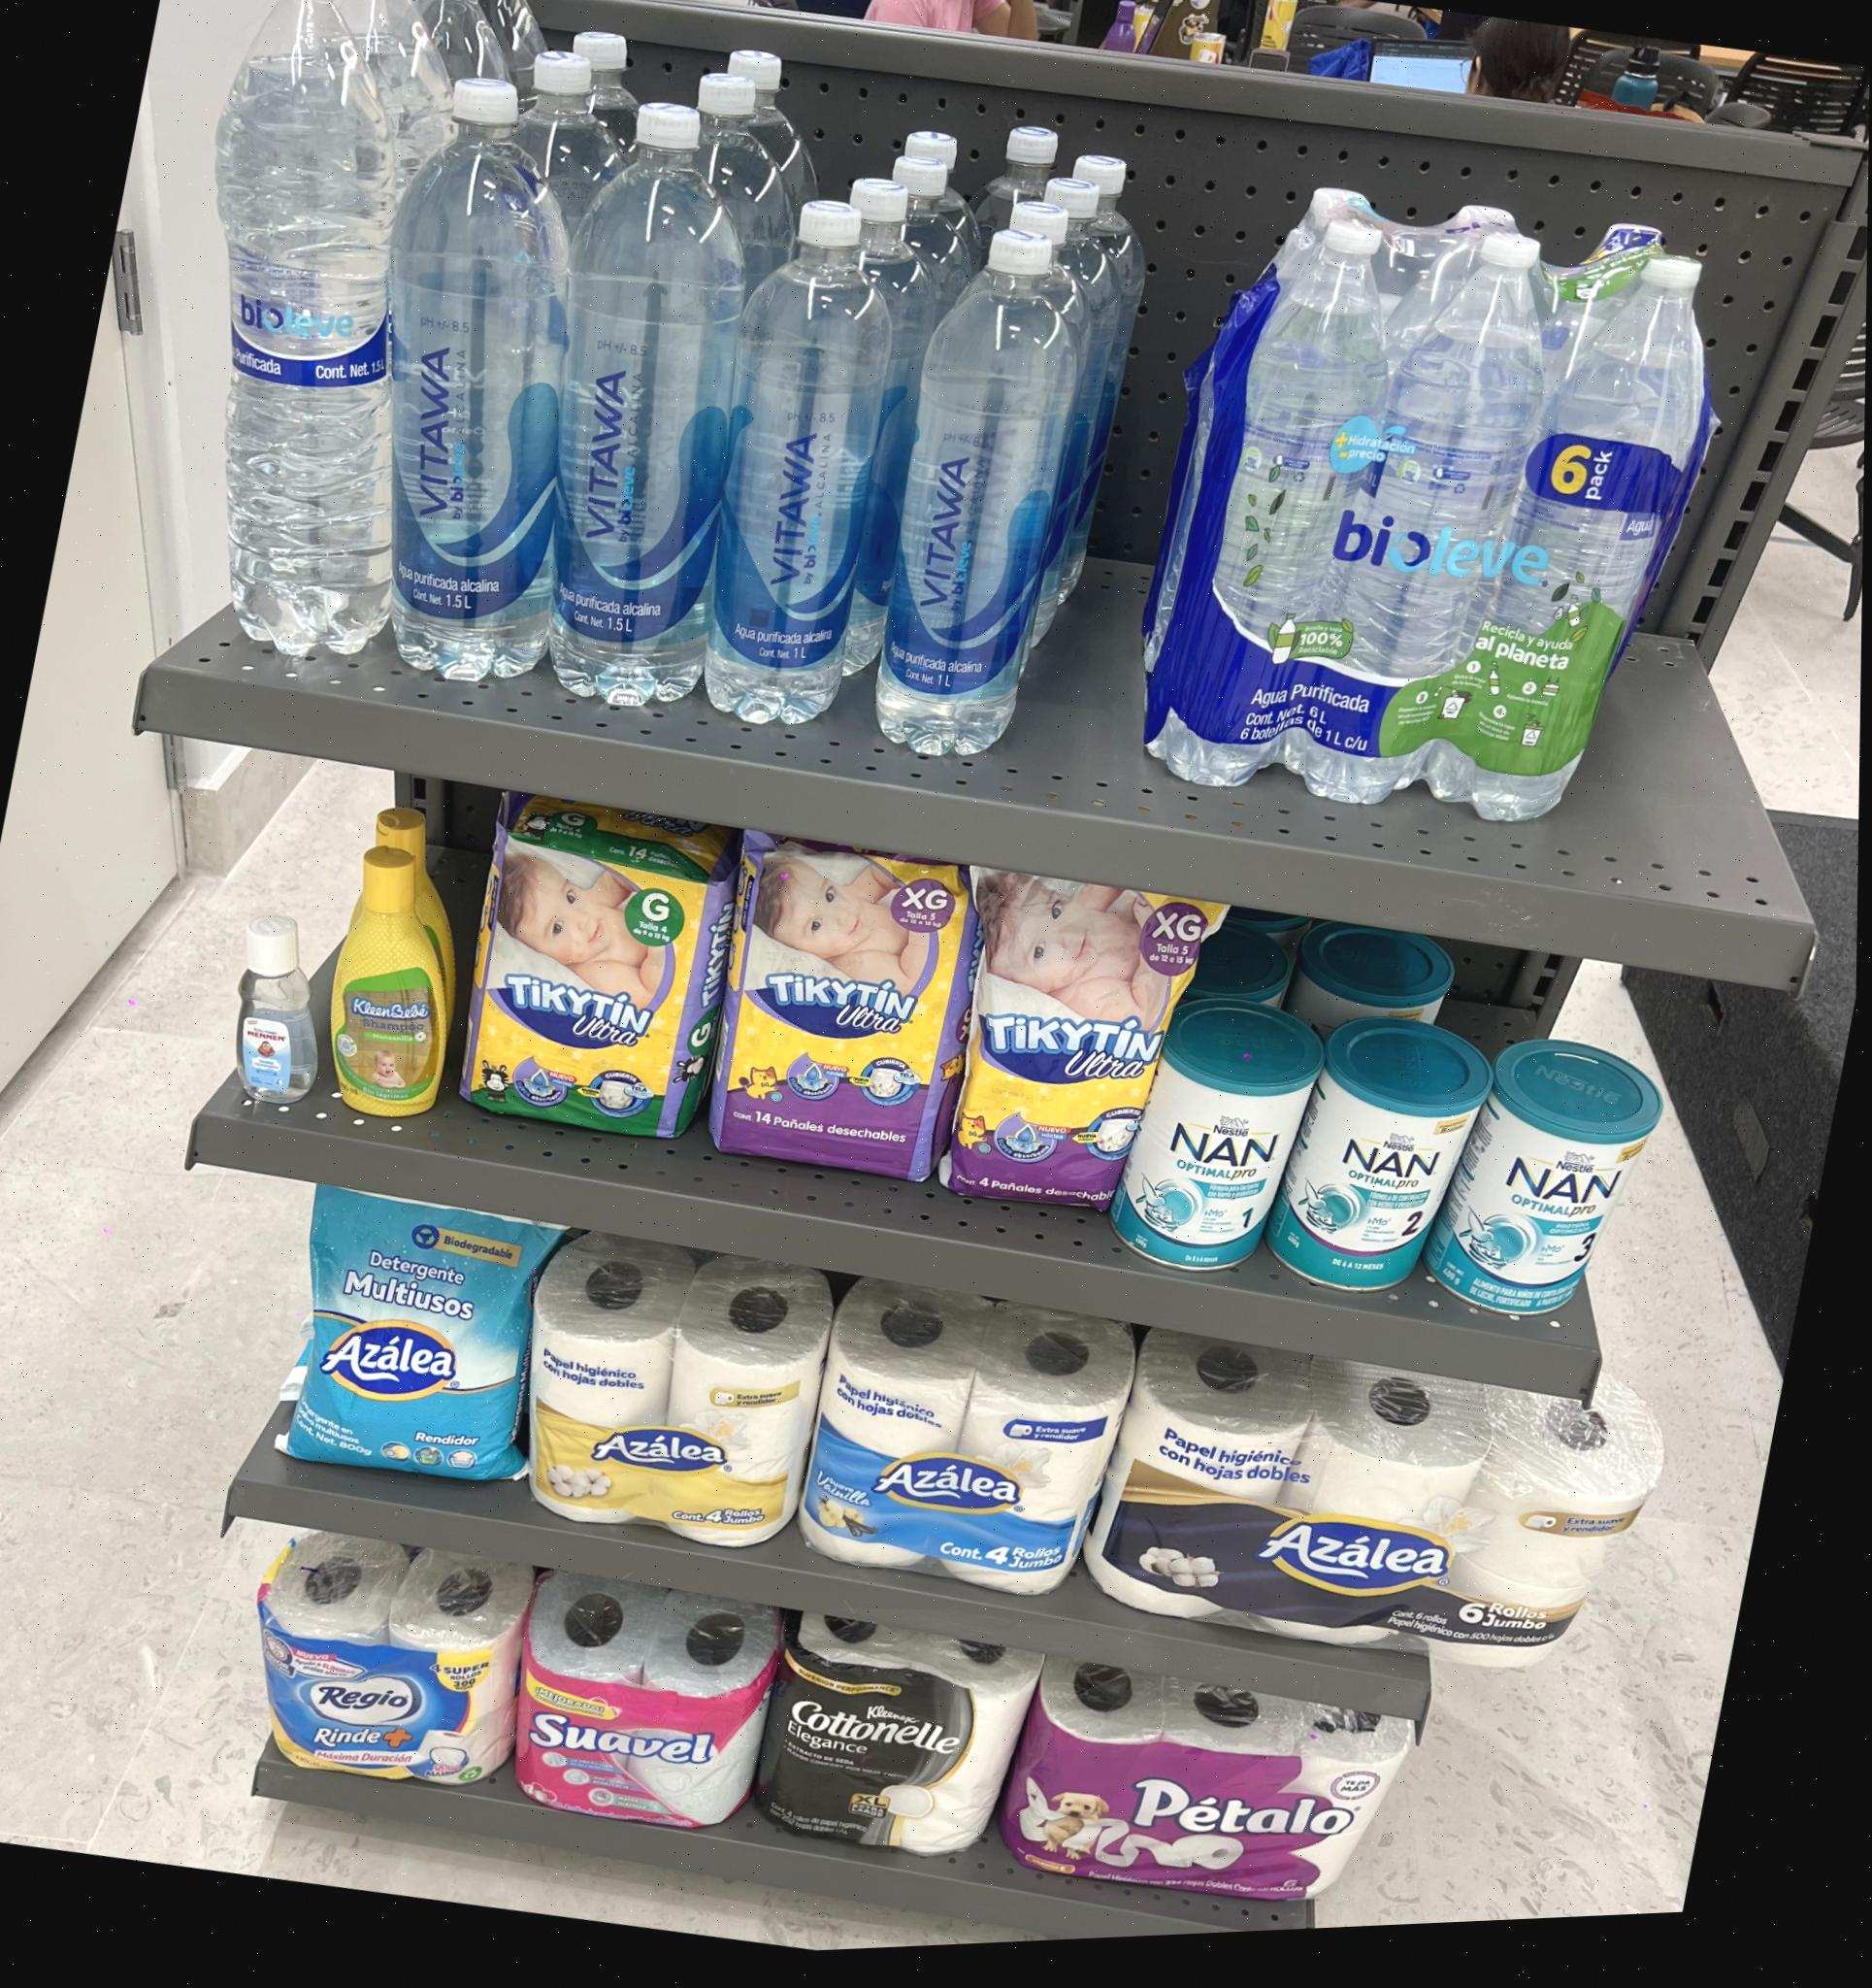aceite_bebe_mennen: (201, 895, 340, 1115)
agua_bioleve: (106, 0, 468, 676)
agua_bioleve_6pack: (1119, 178, 1754, 871)
agua_vitawa_1L: (667, 183, 940, 734), (846, 211, 1105, 776)
agua_vitawa_1_5L: (308, 58, 635, 693), (466, 139, 785, 790)
detergente_azaela: (253, 1173, 570, 1495)
nan_nestle_1: (1112, 1047, 1304, 1283)
nan_nestle_2: (1274, 1061, 1464, 1305)
nan_nestle_3: (1450, 1080, 1661, 1339)
panales_tikytin_extragrande: (679, 822, 996, 1198), (917, 850, 1218, 1235)
panales_tikytin_grande: (442, 820, 734, 1154)
papelhigenico_azaela_6rollos: (1086, 1393, 1649, 1701)
papelhigenico_azaela_amarillo: (484, 1295, 825, 1571)
papelhigenico_azaela_azul: (790, 1334, 1119, 1613)
papelhigenico_kleenex_cottonelle: (741, 1640, 1015, 1872)
papelhigenico_petalo: (1001, 1714, 1388, 1930)
papelhigenico_regio: (230, 1606, 523, 1805)
papelhigenico_suavel: (498, 1654, 767, 1847)
shampoo_bebe: (308, 836, 482, 1128)
